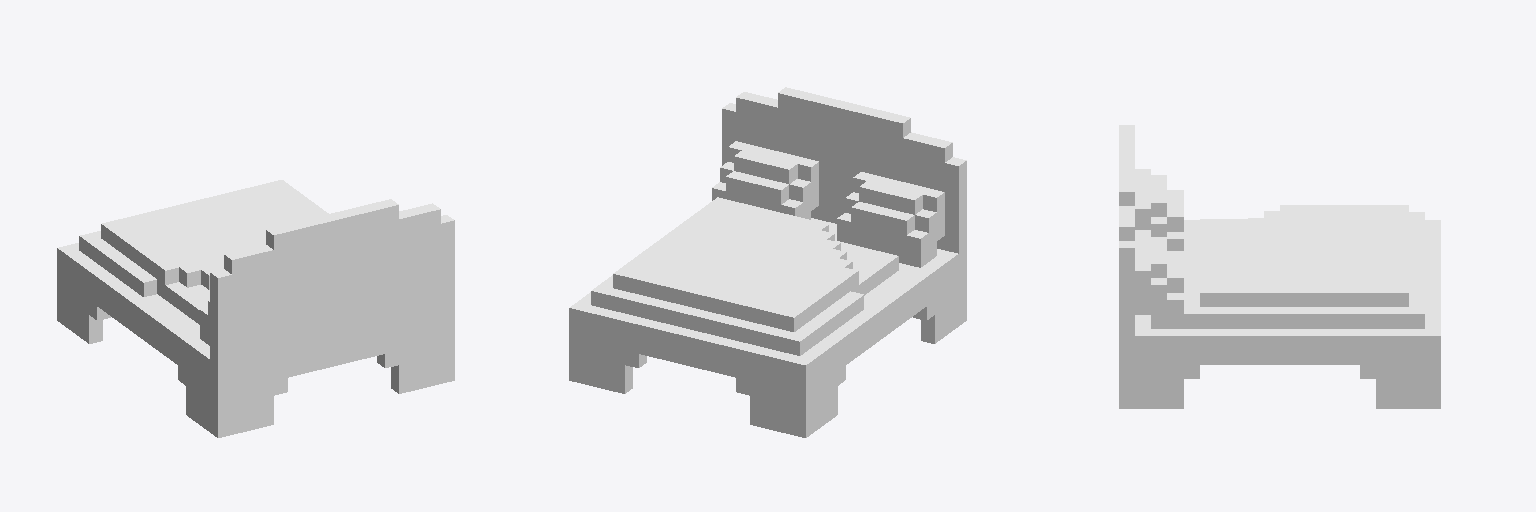
File: Bedroom-0-Bed.obj
The picture shows the model from 3 angles: view 1: azimuth 30°, elevation 25°; view 2: azimuth 150°, elevation 25°; view 3: azimuth 270°, elevation 25°; orthographic projection.
Visible parts, largest first — view 1: Bed; view 2: Bed; view 3: Bed.
Boxes of the visible parts, <box> form: Bed: <box>57,180,454,437</box>; Bed: <box>569,87,966,437</box>; Bed: <box>1119,125,1440,408</box>.
Bounding box in the file's own units: 1.7 × 1.3 × 2.